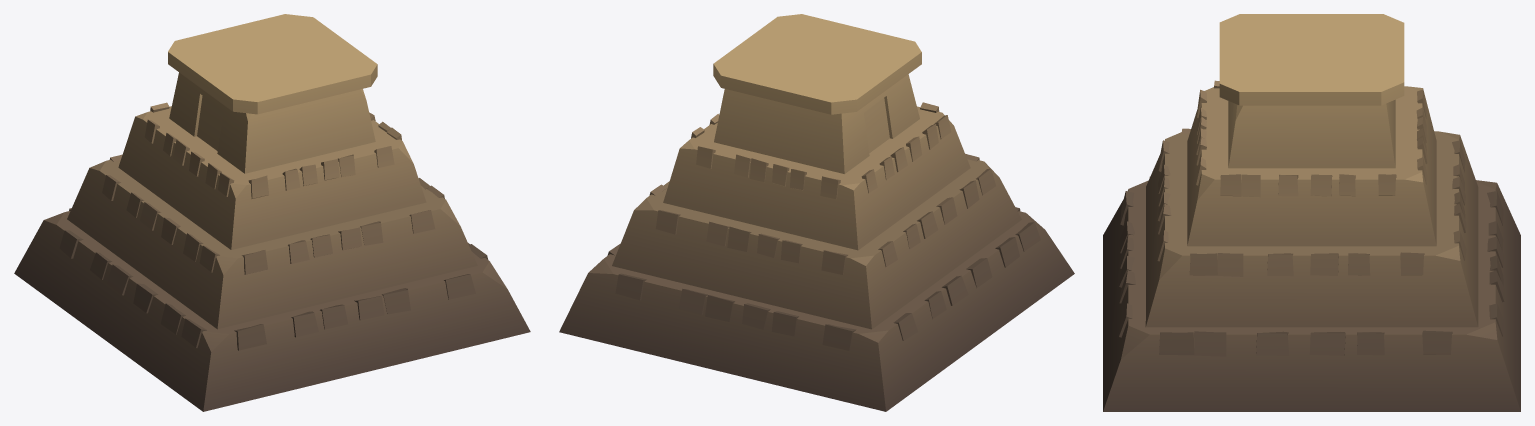
The model's file is SM_Temple_001.fbx.
The picture shows the model from 3 angles, left to right: view 1: azimuth 30°, elevation 25°; view 2: azimuth 150°, elevation 25°; view 3: azimuth 270°, elevation 25°; orthographic projection. The views are drawn at different scales.
Visible parts, largest first — view 1: SM_Temple_001; view 2: SM_Temple_001; view 3: SM_Temple_001.
Boxes of the visible parts, left/top/right/bottom form: SM_Temple_001: left=14, top=14, right=530, bottom=411; SM_Temple_001: left=559, top=14, right=1074, bottom=411; SM_Temple_001: left=1103, top=14, right=1520, bottom=411.
Bounding box in the file's own units: 9.3 × 6.65 × 9.3.
